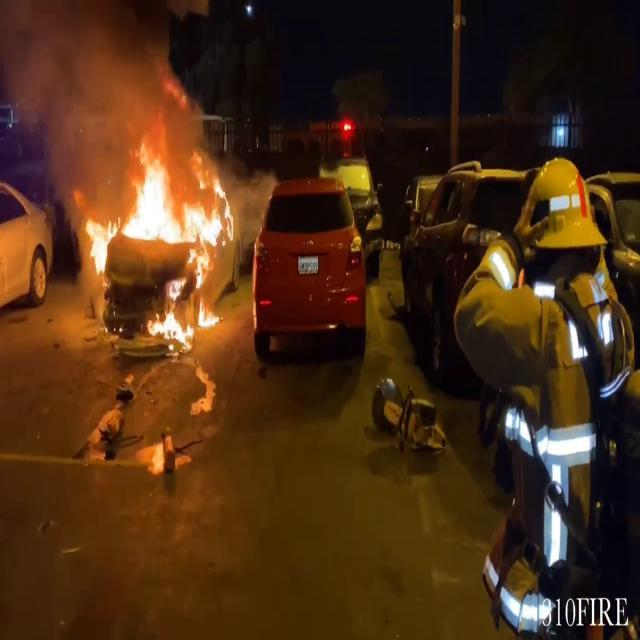Fire: (81, 137, 235, 335)
Smoke: (0, 0, 215, 169)
